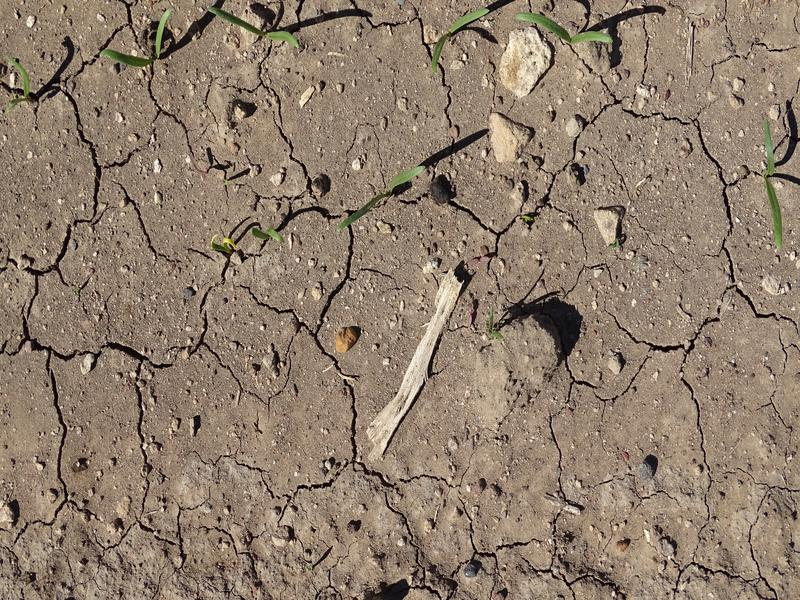Espinaca: (336, 165, 425, 228), (205, 4, 306, 49), (105, 12, 175, 73), (759, 120, 790, 253), (428, 12, 485, 73), (525, 9, 614, 47)
